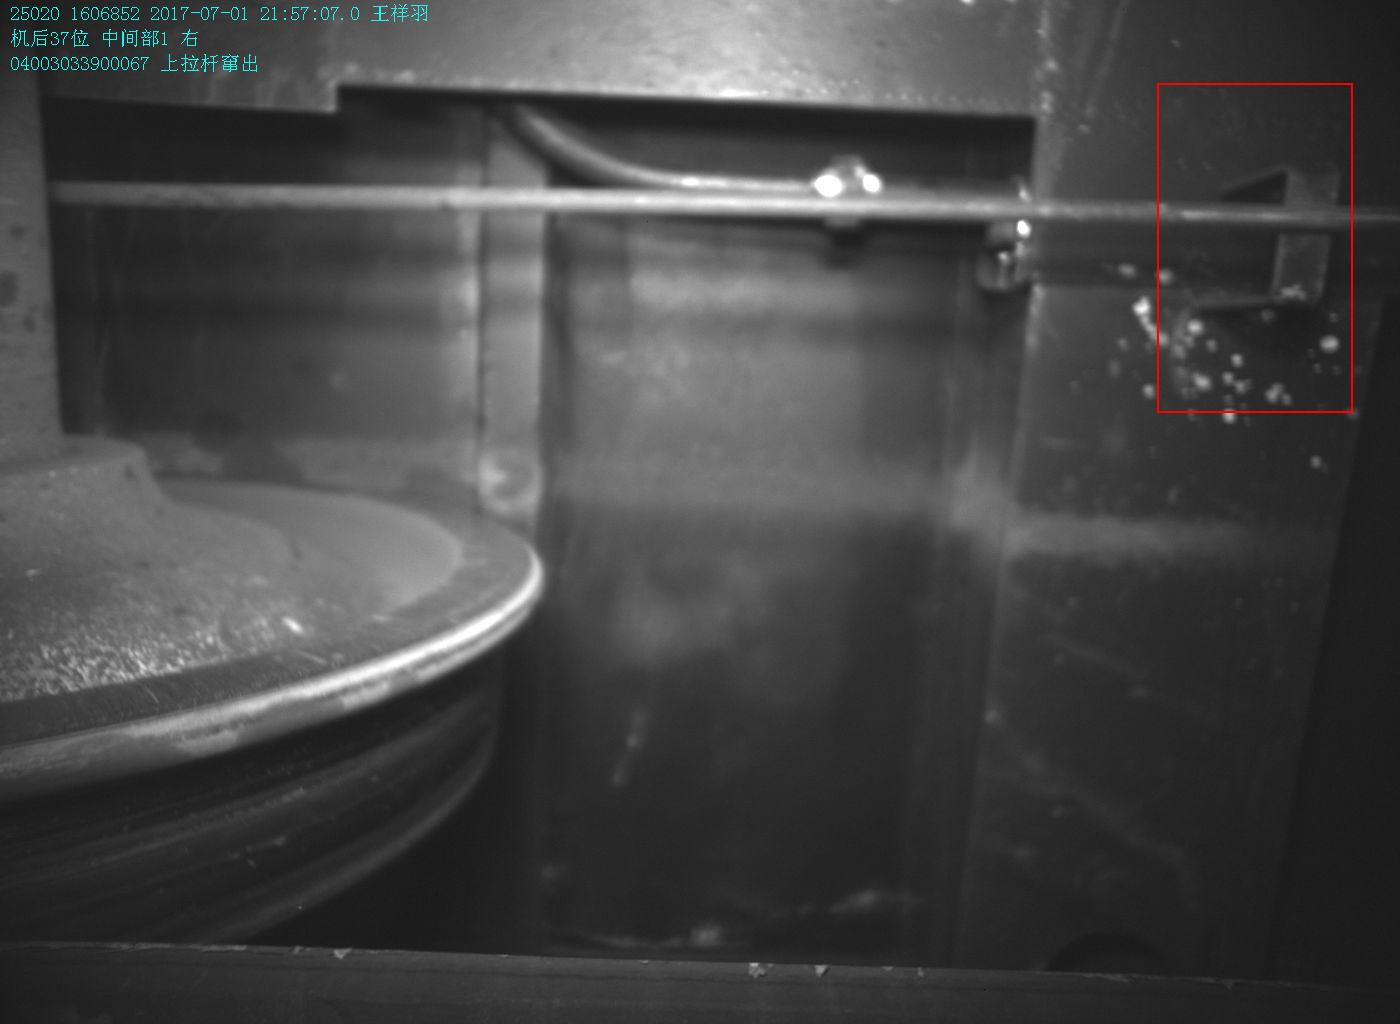upper lever: (1193, 165, 1341, 316)
